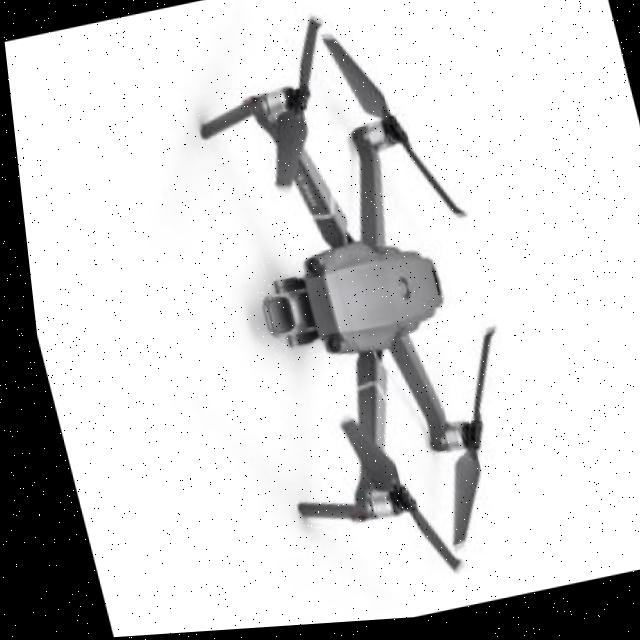drones: (129, 0, 558, 620)
